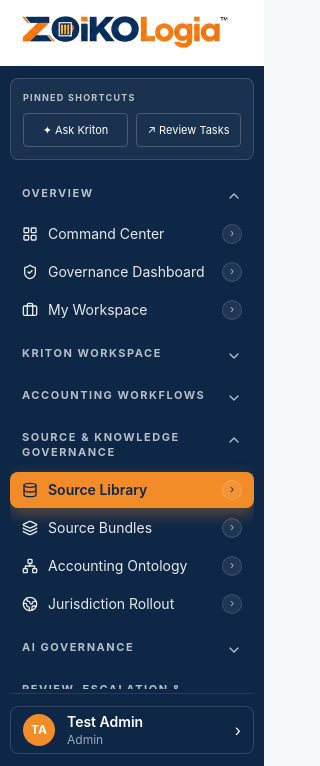
Scenario: Sidebar responsiveness › opens a directly visited section and lets the user close it
Click the button "Source & Knowledge Governance": (132,445) [10,420,254,470]
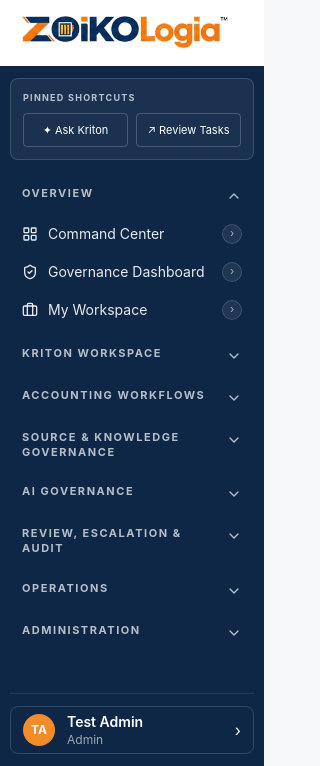
Now the button "Source & Knowledge Governance" is collapsed, box [10,420,254,470]
